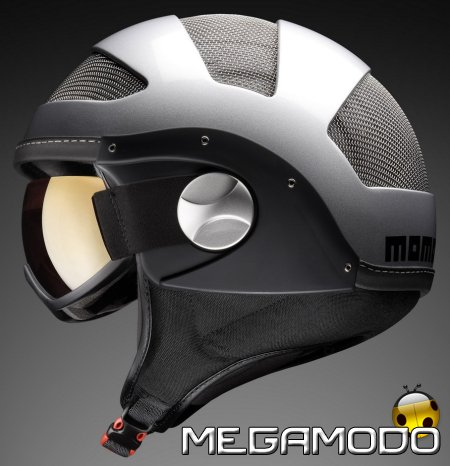helmet: (37, 30, 426, 374)
